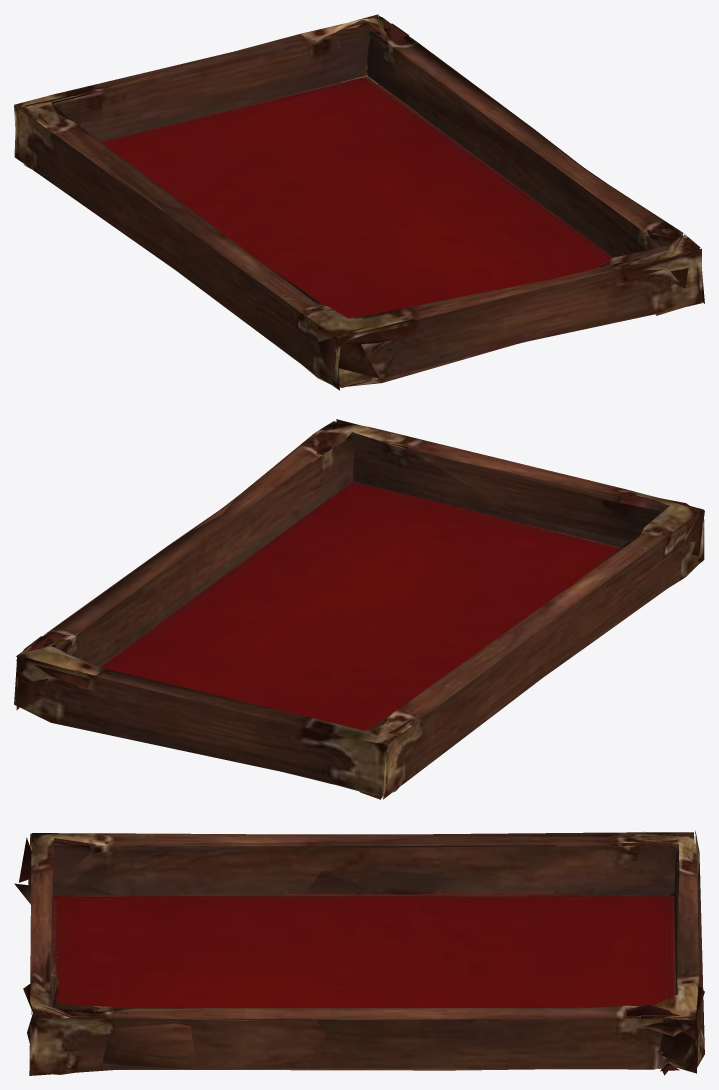
Rendered from dice-box.lod1.glb.
The picture shows the model from 3 angles, top to bottom: view 1: azimuth 30°, elevation 25°; view 2: azimuth 150°, elevation 25°; view 3: azimuth 270°, elevation 25°; orthographic projection. The views are drawn at different scales.
Visible parts, largest first — view 1: prop-dice-box; view 2: prop-dice-box; view 3: prop-dice-box.
Boxes of the visible parts, box(x1,y1,x2,y2) form: prop-dice-box: box(14, 14, 704, 390); prop-dice-box: box(14, 419, 704, 799); prop-dice-box: box(14, 830, 704, 1075).
Size of the model in its own units: 1.1 by 0.1909 by 1.69.
Materials: 1 (1 with a texture image).
